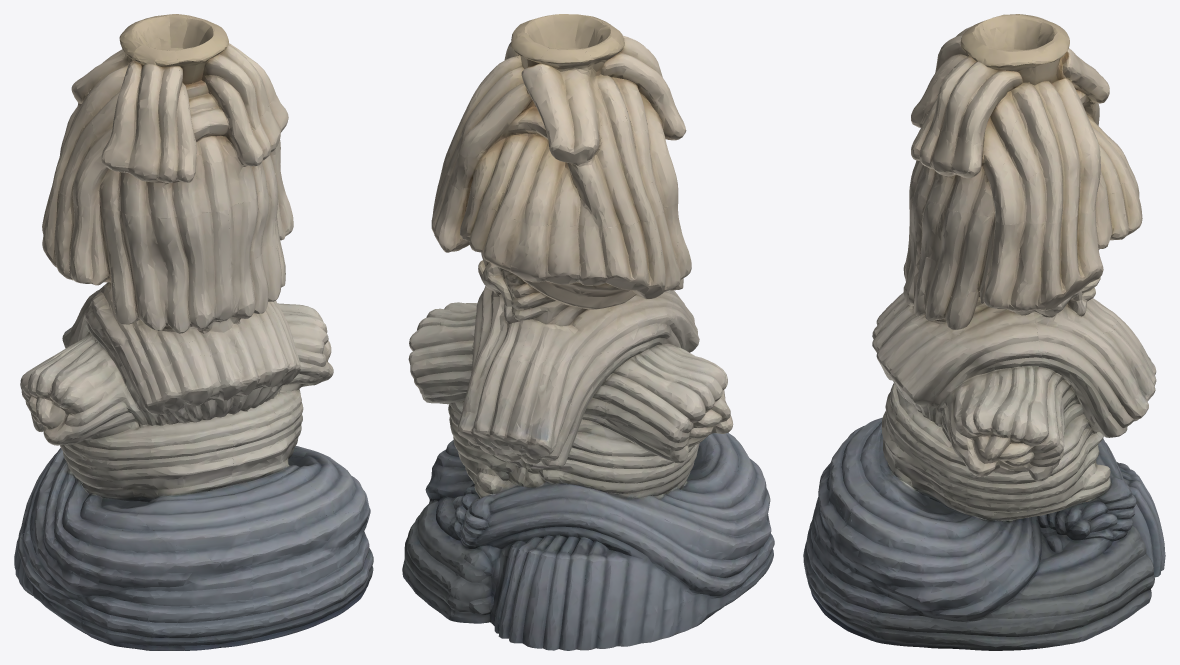
The model's file is 05_7_js_blob_candle4-opt-v21.glb.
3 renders of one model, left to right at view 1: azimuth 30°, elevation 25°; view 2: azimuth 150°, elevation 25°; view 3: azimuth 270°, elevation 25°, orthographic. The views are drawn at different scales.
Visible parts, largest first — view 1: tripo_node_c4b6c598-1dfe-4f7f-97d7-fb400cd33945; view 2: tripo_node_c4b6c598-1dfe-4f7f-97d7-fb400cd33945; view 3: tripo_node_c4b6c598-1dfe-4f7f-97d7-fb400cd33945.
Part boxes in pixels (box(x1,y1,x2,y2)): tripo_node_c4b6c598-1dfe-4f7f-97d7-fb400cd33945: box(14, 14, 373, 650); tripo_node_c4b6c598-1dfe-4f7f-97d7-fb400cd33945: box(402, 14, 774, 650); tripo_node_c4b6c598-1dfe-4f7f-97d7-fb400cd33945: box(803, 14, 1165, 650).
Bounding box in the file's own units: 0.1194 × 0.2 × 0.1203.
1 material, 1 textured.
